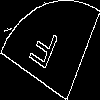F: (24, 25, 60, 79)
